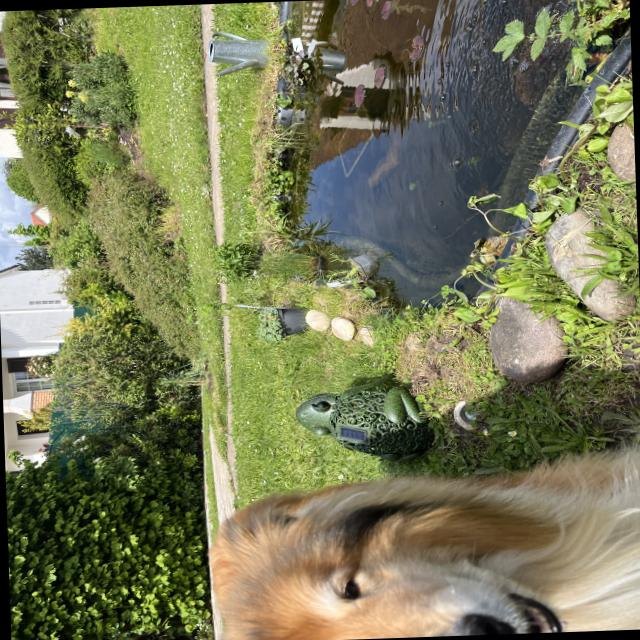Dog: (206, 435, 640, 640)
